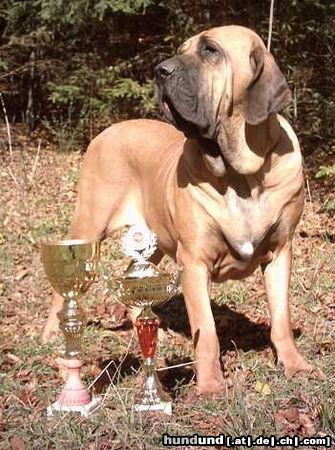fila_brasileiro: (39, 24, 314, 394)
